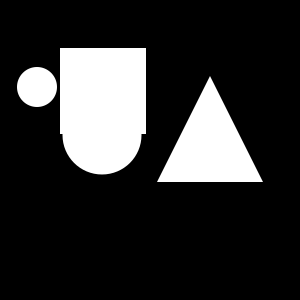circle: (60, 48, 146, 134)
rectangle: (63, 96, 142, 174), (17, 67, 57, 107)
triangle: (157, 76, 263, 182)
